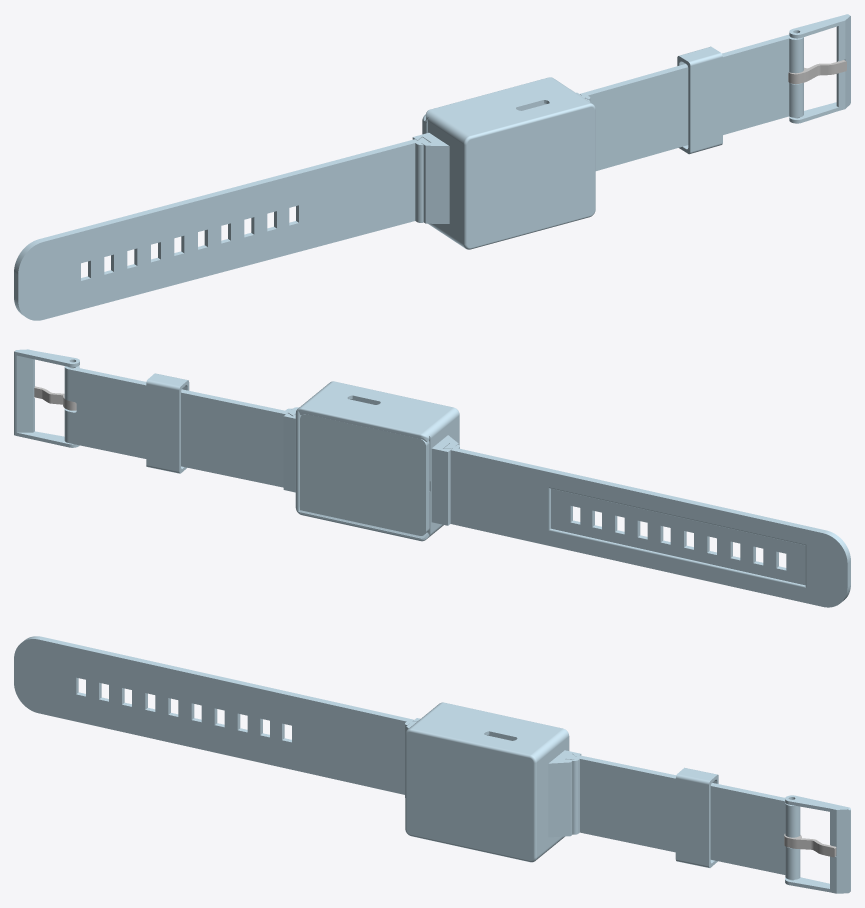
File: careband_3d.glb
3 views of the same model, one above another, from view 1: azimuth 30°, elevation 25°; view 2: azimuth 150°, elevation 25°; view 3: azimuth 330°, elevation 25° (orthographic). The views are drawn at different scales.
Visible parts, largest first — view 1: mesh66_mesh_49, mesh157_mesh_37, mesh129_mesh_10, mesh157_mesh_62, mesh26_mesh_6, mesh157_mesh_50, mesh157_mesh_41, mesh66_mesh_59, mesh129_mesh_20; view 2: mesh66_mesh_53, mesh129_mesh_16, mesh225_mesh_16, mesh66_mesh_4, mesh157_mesh_62, mesh26_mesh_2, mesh66_mesh_59, mesh0_mesh_5, mesh157_mesh_42, mesh157_mesh_52, mesh157_mesh_15, mesh129_mesh_20 (+3 smaller); view 3: mesh66_mesh_49, mesh157_mesh_37, mesh129_mesh_10, mesh157_mesh_62, mesh26_mesh_6, mesh157_mesh_60, mesh66_mesh_59, mesh157_mesh_51, mesh0_mesh_15, mesh129_mesh_20, mesh129_mesh_23, mesh157_mesh_36.
Part boxes in pixels (left/top/right/bottom): mesh66_mesh_49: left=18, top=143, right=415, bottom=320; mesh157_mesh_37: left=467, top=107, right=594, bottom=247; mesh129_mesh_10: left=588, top=38, right=789, bottom=170; mesh157_mesh_62: left=430, top=77, right=588, bottom=135; mesh26_mesh_6: left=690, top=57, right=722, bottom=151; mesh157_mesh_50: left=425, top=145, right=449, bottom=223; mesh157_mesh_41: left=427, top=121, right=463, bottom=243; mesh66_mesh_59: left=39, top=137, right=429, bottom=241; mesh129_mesh_20: left=580, top=34, right=803, bottom=99; mesh66_mesh_53: left=450, top=450, right=847, bottom=607; mesh129_mesh_16: left=69, top=369, right=285, bottom=487; mesh225_mesh_16: left=300, top=414, right=425, bottom=535; mesh66_mesh_4: left=551, top=488, right=805, bottom=585; mesh157_mesh_62: left=302, top=381, right=452, bottom=433; mesh26_mesh_2: left=146, top=384, right=179, bottom=471; mesh66_mesh_59: left=444, top=443, right=825, bottom=532; mesh0_mesh_5: left=16, top=355, right=33, bottom=432; mesh157_mesh_42: left=431, top=448, right=447, bottom=525; mesh157_mesh_52: left=283, top=416, right=295, bottom=492; mesh157_mesh_15: left=296, top=410, right=420, bottom=539; mesh129_mesh_20: left=64, top=365, right=296, bottom=415; mesh66_mesh_49: left=14, top=639, right=406, bottom=794; mesh157_mesh_37: left=406, top=732, right=533, bottom=860; mesh129_mesh_10: left=580, top=759, right=785, bottom=874; mesh157_mesh_62: left=412, top=703, right=561, bottom=754; mesh26_mesh_6: left=675, top=778, right=708, bottom=865; mesh157_mesh_60: left=548, top=762, right=570, bottom=837; mesh66_mesh_59: left=39, top=637, right=417, bottom=725; mesh157_mesh_51: left=537, top=737, right=568, bottom=856; mesh0_mesh_15: left=836, top=809, right=849, bottom=893; mesh129_mesh_20: left=565, top=754, right=795, bottom=805; mesh129_mesh_23: left=572, top=760, right=578, bottom=834; mesh157_mesh_36: left=410, top=729, right=530, bottom=757.
Bounding box in the file's own units: 0.2534 × 0.032 × 0.0227.
